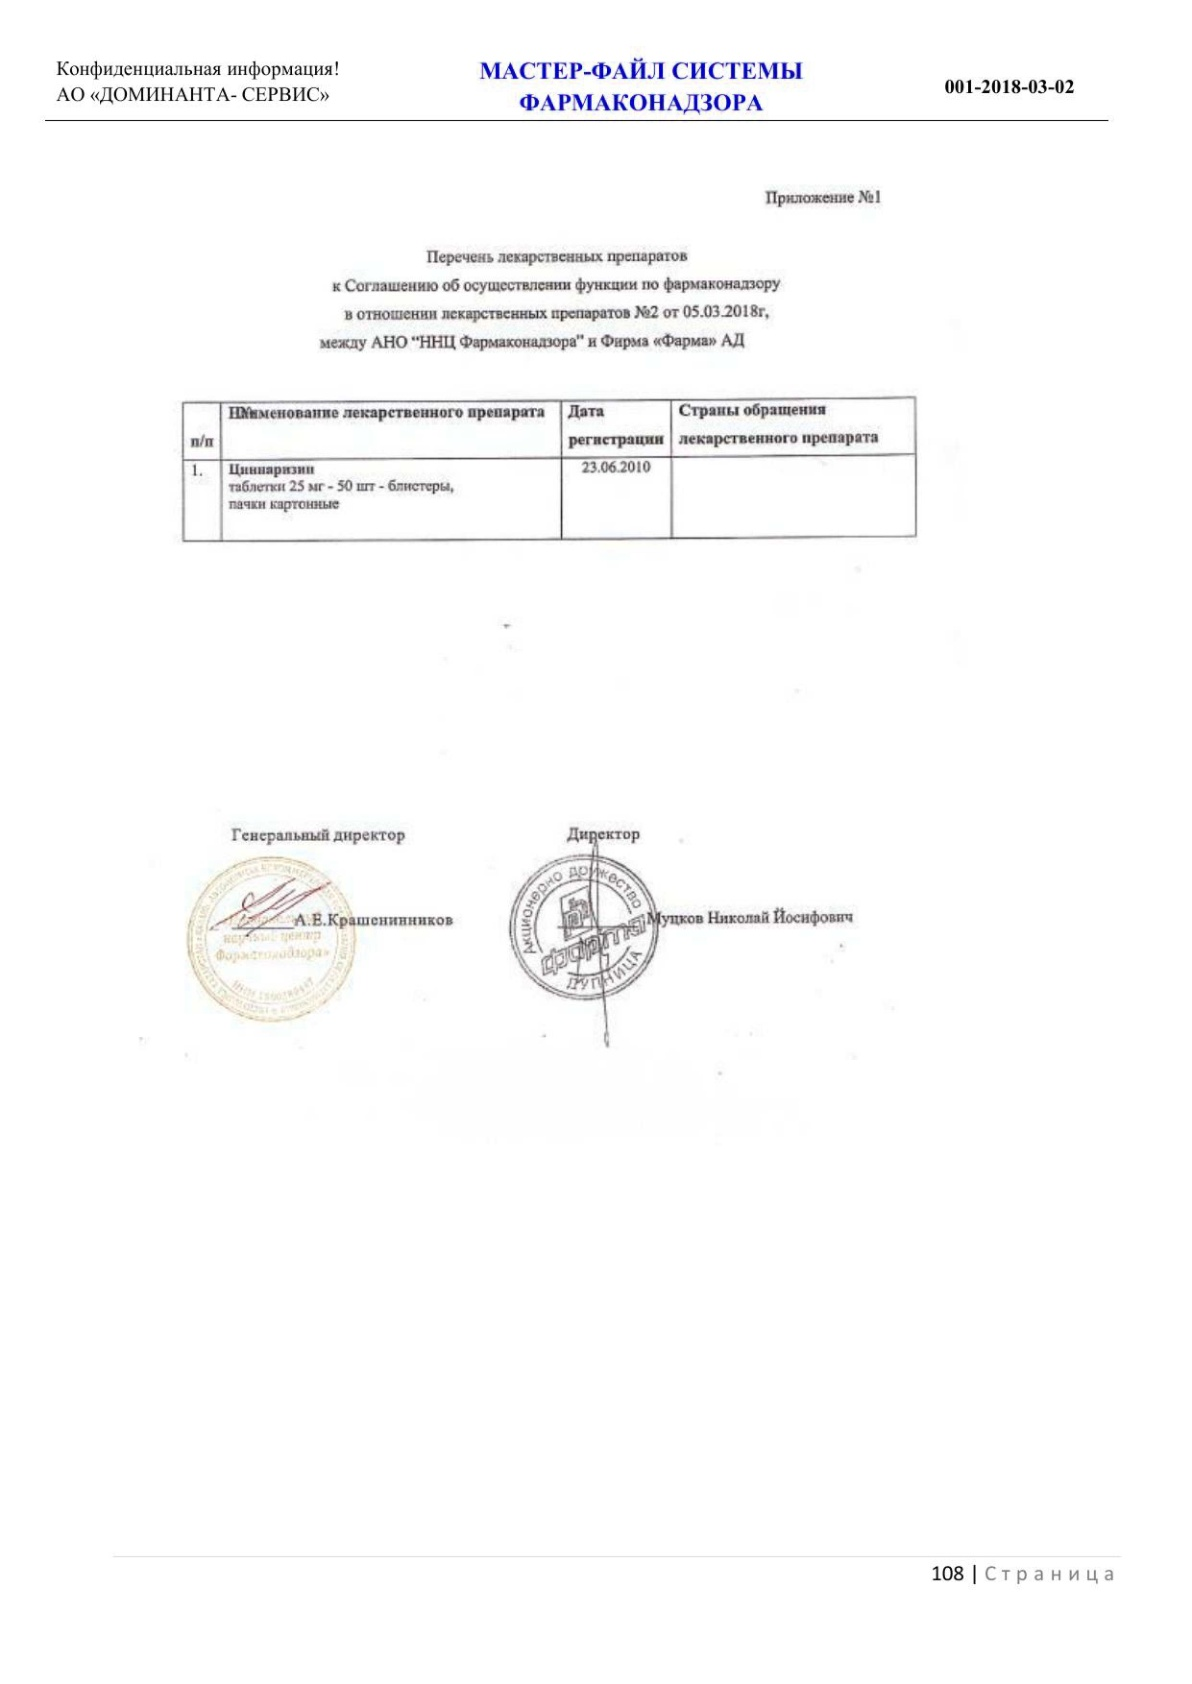full_lined: (181, 395, 919, 544)
